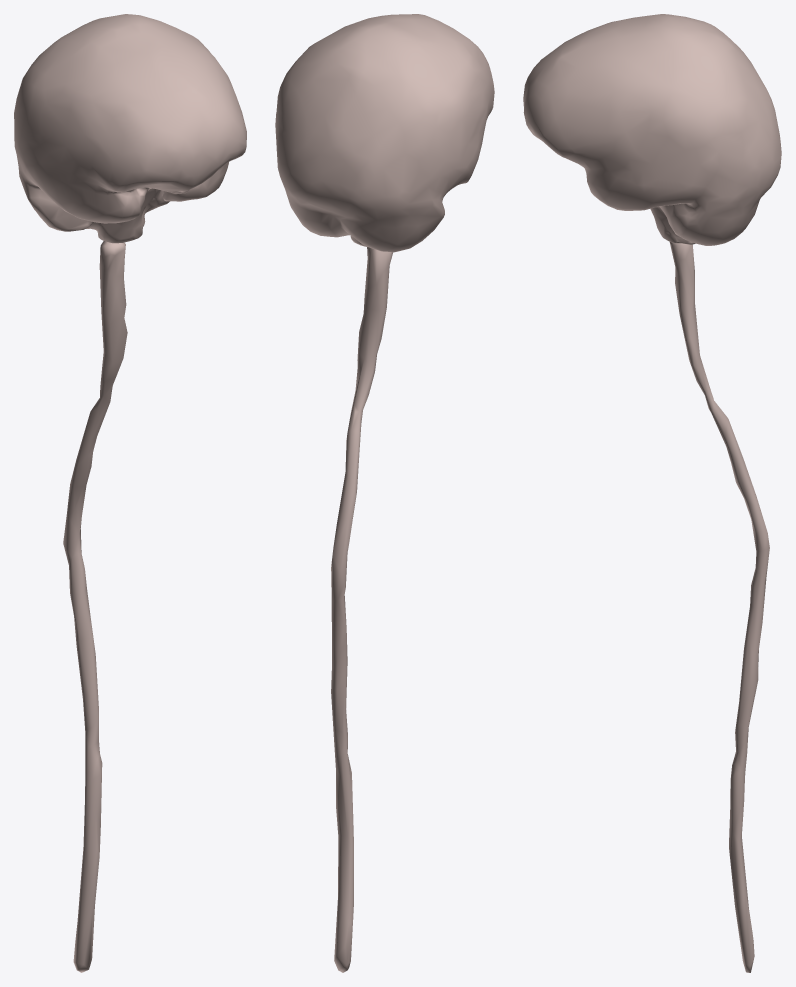
File: pediatric_adolescent_male.nervous.LOD1.glb
The picture shows the model from 3 angles, left to right: view 1: azimuth 30°, elevation 25°; view 2: azimuth 150°, elevation 25°; view 3: azimuth 270°, elevation 25°; orthographic projection. The views are drawn at different scales.
Visible parts, largest first — view 1: PEDIATRIC.ADOLESCENT.MALE.NERVOUS.BRAIN, PEDIATRIC.ADOLESCENT.MALE.NERVOUS.SPINAL_CORD; view 2: PEDIATRIC.ADOLESCENT.MALE.NERVOUS.BRAIN, PEDIATRIC.ADOLESCENT.MALE.NERVOUS.SPINAL_CORD; view 3: PEDIATRIC.ADOLESCENT.MALE.NERVOUS.BRAIN, PEDIATRIC.ADOLESCENT.MALE.NERVOUS.SPINAL_CORD.
Boxes of the visible parts, x1,y1,x2,y2 form: PEDIATRIC.ADOLESCENT.MALE.NERVOUS.BRAIN: [14, 14, 246, 243]; PEDIATRIC.ADOLESCENT.MALE.NERVOUS.SPINAL_CORD: [63, 241, 127, 972]; PEDIATRIC.ADOLESCENT.MALE.NERVOUS.BRAIN: [275, 14, 494, 252]; PEDIATRIC.ADOLESCENT.MALE.NERVOUS.SPINAL_CORD: [331, 247, 393, 972]; PEDIATRIC.ADOLESCENT.MALE.NERVOUS.BRAIN: [523, 14, 781, 245]; PEDIATRIC.ADOLESCENT.MALE.NERVOUS.SPINAL_CORD: [669, 242, 769, 972].
Size of the model in its own units: 0.1334 by 0.6592 by 0.1625.
